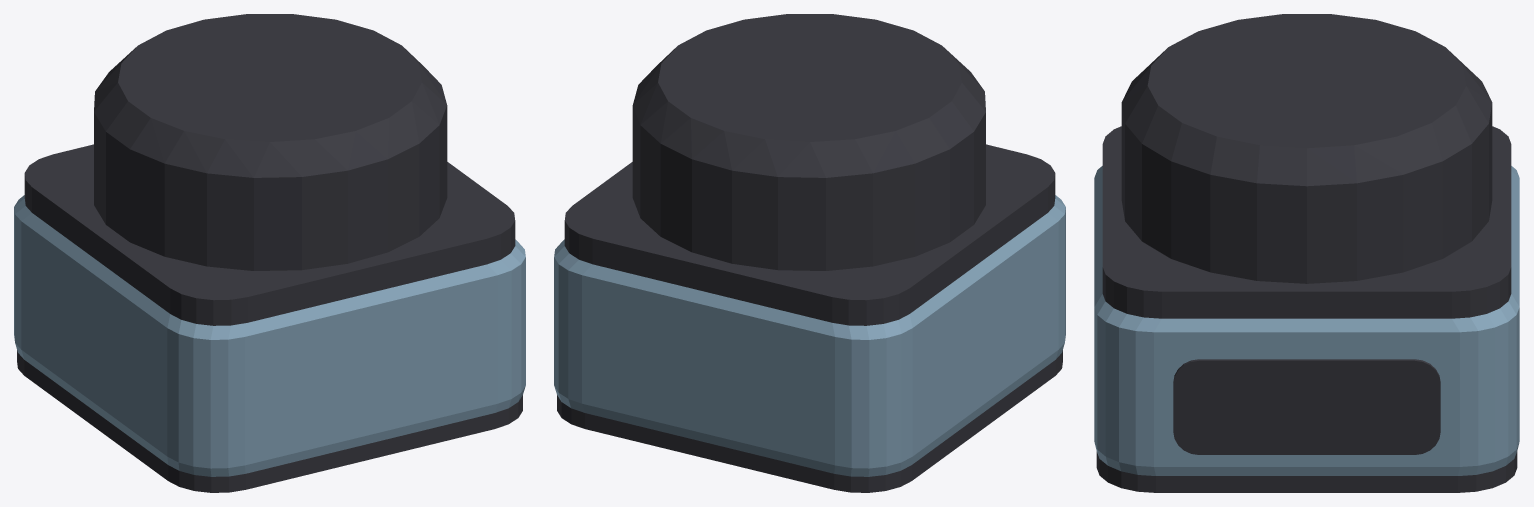
File: lpx-e3.glb
3 renders of one model, left to right at view 1: azimuth 30°, elevation 25°; view 2: azimuth 150°, elevation 25°; view 3: azimuth 270°, elevation 25°, orthographic. The views are drawn at different scales.
Parts seen in each view (by area): view 1: n_dark, n_light; view 2: n_dark, n_light; view 3: n_dark, n_light.
Part boxes in pixels (x1,y1,x2,y2): n_dark: [17, 14, 522, 492]; n_light: [14, 195, 525, 476]; n_dark: [557, 14, 1062, 492]; n_light: [554, 195, 1065, 476]; n_dark: [1096, 14, 1517, 492]; n_light: [1094, 166, 1519, 475].
Bounding box in the file's own units: 0.0577 × 0.048 × 0.0572.
